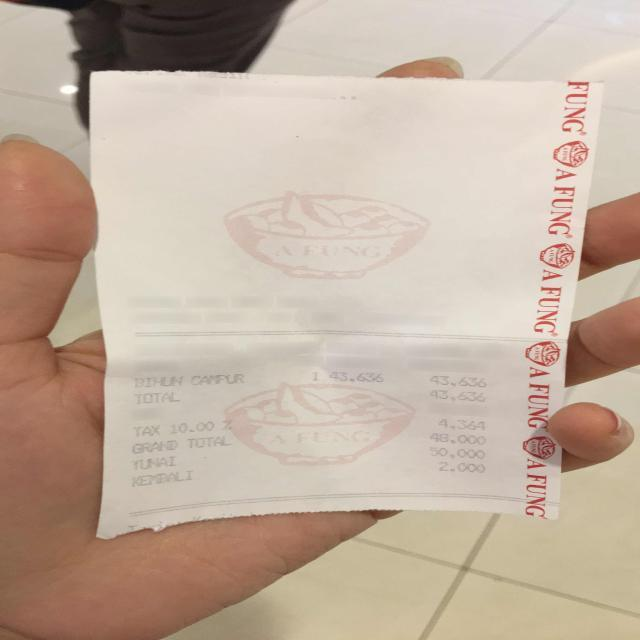kertas: (91, 71, 602, 538)
